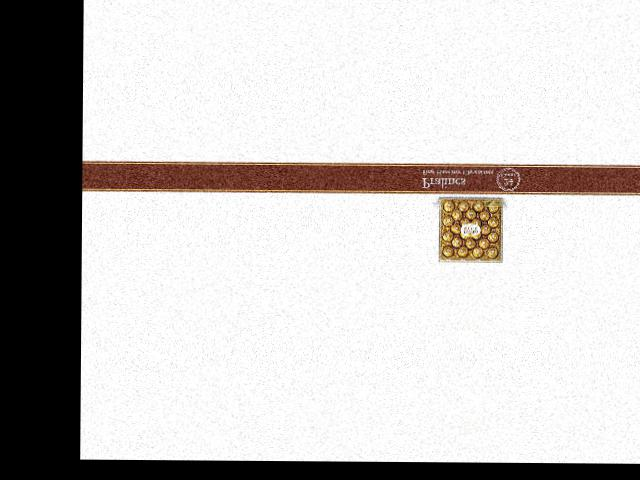chocolate: (436, 194, 507, 266)
